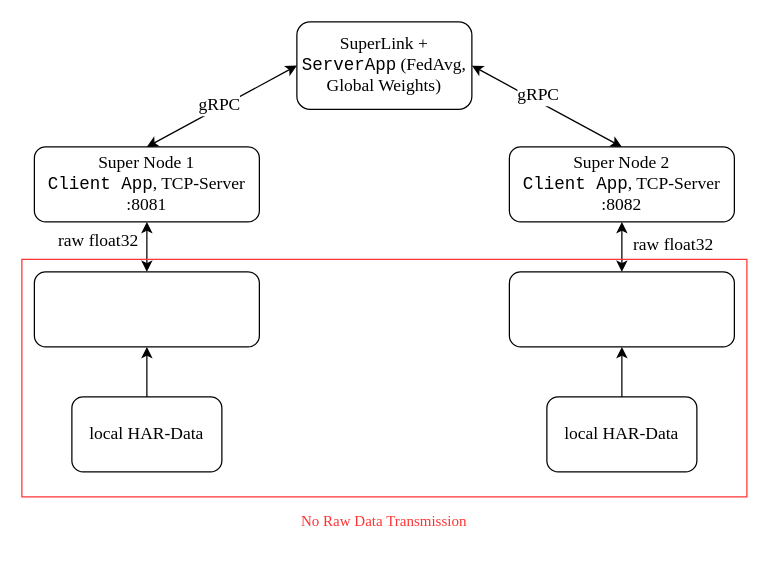
This 769x563 diagram has some shape labels left out. The shapes that lost their labels are listed below. From the top down, each one's centre as x and y in pixels, then its label:
At point 146,309: "ESP32-Client 1 C, AIfES, TCP-Client".
At point 621,309: "ESP32-Client 2 C, AIfES, TCP-Client".
